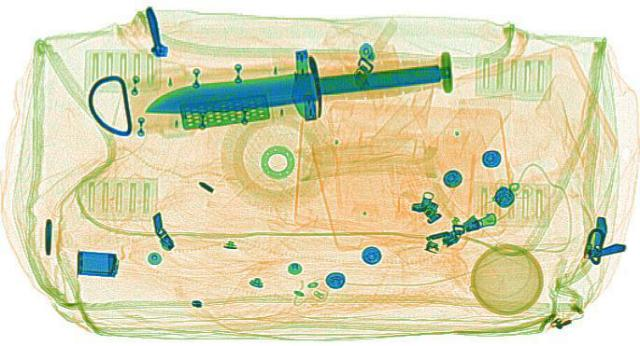Knife: (124, 32, 473, 139)
